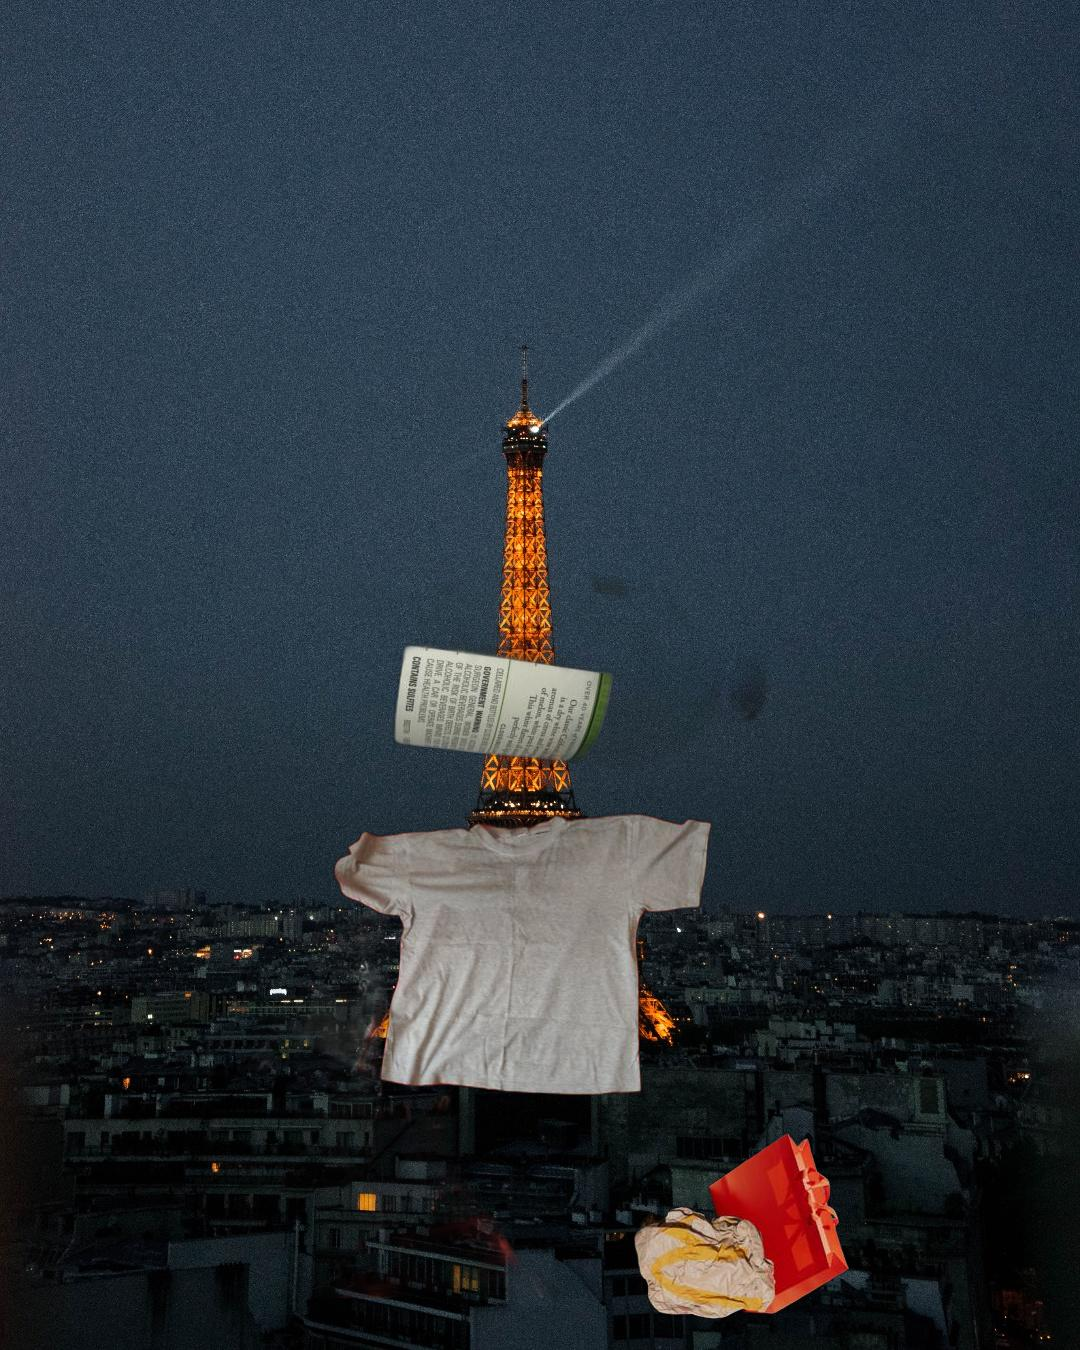clothes: (331, 809, 715, 1100)
glass: (259, 517, 771, 782)
paper: (76, 914, 588, 1298)
paper-bag: (587, 1097, 852, 1350)
plastic-bottles: (762, 46, 1080, 730)
